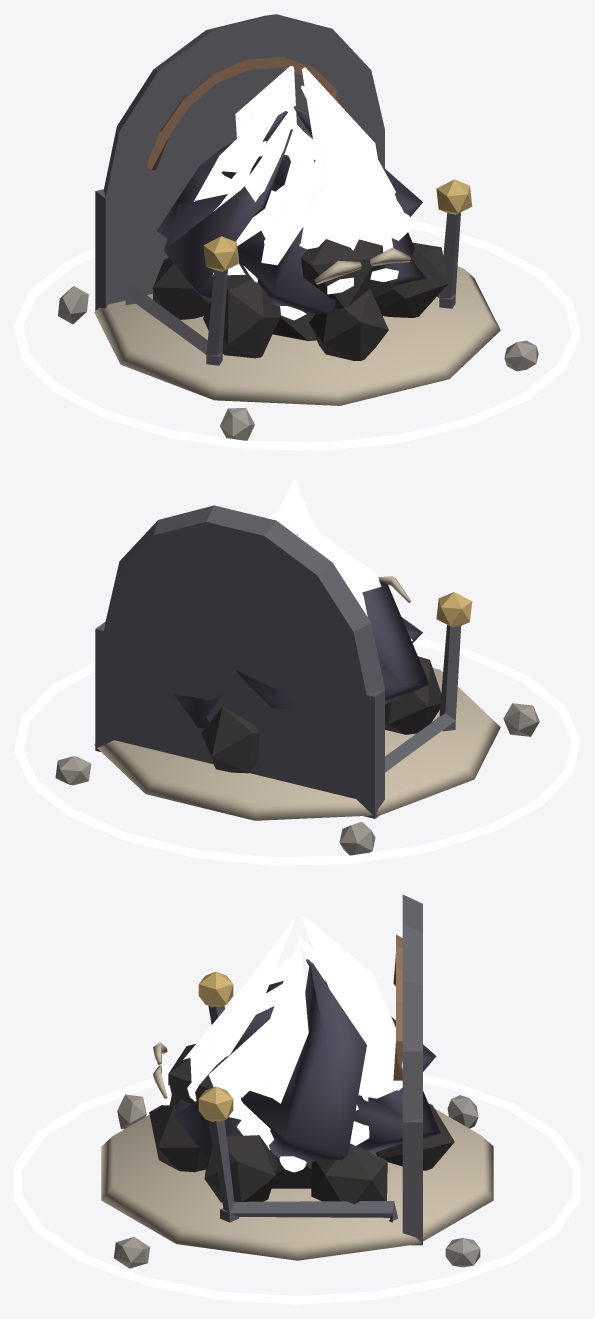
Rendered from ember-the-fire-that-stayed.glb.
3 renders of one model, top to bottom at view 1: azimuth 30°, elevation 25°; view 2: azimuth 150°, elevation 25°; view 3: azimuth 270°, elevation 25°, orthographic.
Parts seen in each view (by area): view 1: ember_the_fire_that_stayed; view 2: ember_the_fire_that_stayed; view 3: ember_the_fire_that_stayed.
Boxes of the visible parts, x1,y1,x2,y2 form: ember_the_fire_that_stayed: [14, 14, 580, 450]; ember_the_fire_that_stayed: [14, 479, 580, 865]; ember_the_fire_that_stayed: [14, 894, 580, 1304].
Bounding box in the file's own units: 0.8439 × 0.4708 × 0.8354.
